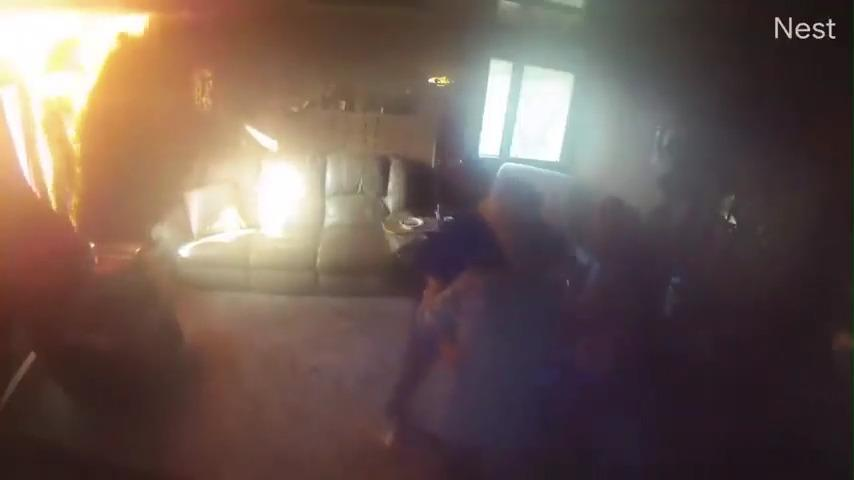fire: (2, 1, 160, 224)
